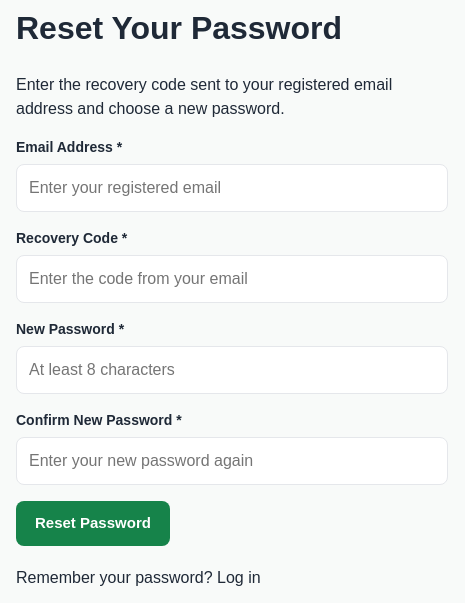
ResetPassword › successfully resets the password
In the field with placeholder "Enter your registered email": (232, 188) [16,164,448,212], type "user@example.com"
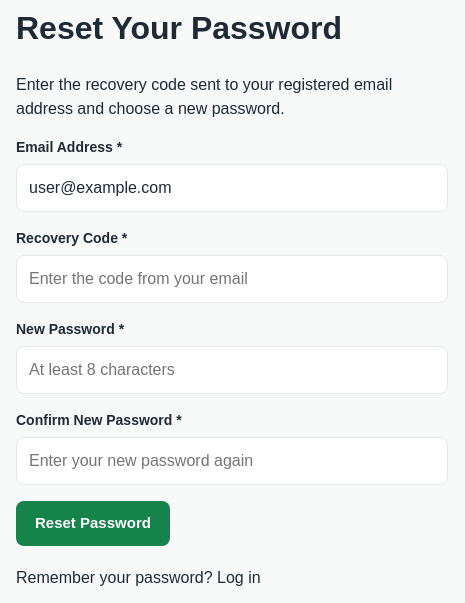
In the field with placeholder "Enter the code from your email": (232, 279) [16,255,448,303], type "test-recovery-code"
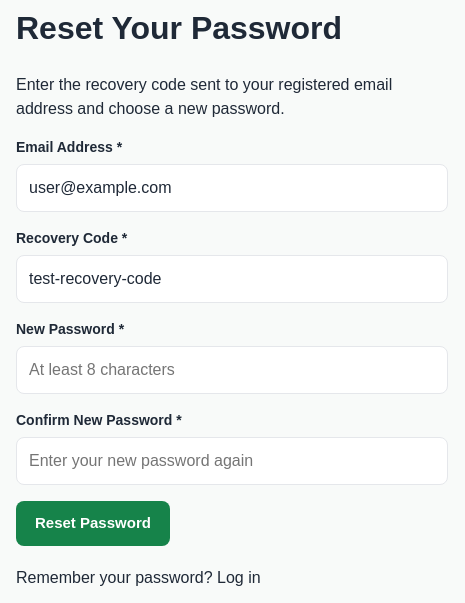
In the password field with placeholder "At least 8 characters": (232, 370) [16,346,448,394], type "NewPassword123!"
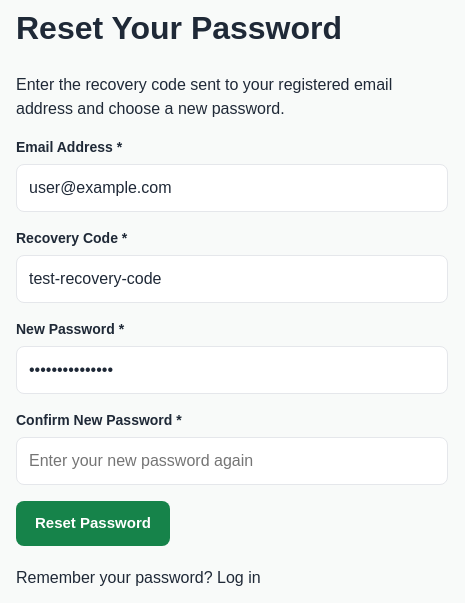
In the password field with placeholder "Enter your new password again": (232, 461) [16,437,448,485], type "NewPassword123!"
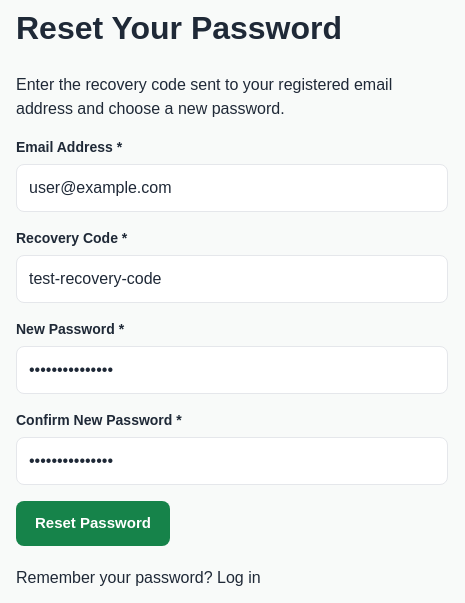
Click the button "Reset Password": (93, 524) [16,501,170,546]
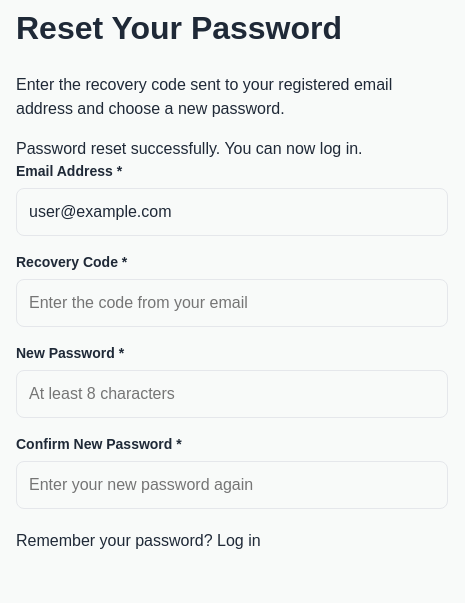
Result: the message reads "Password reset successfully. You can now log in." at [16,140,363,157]
